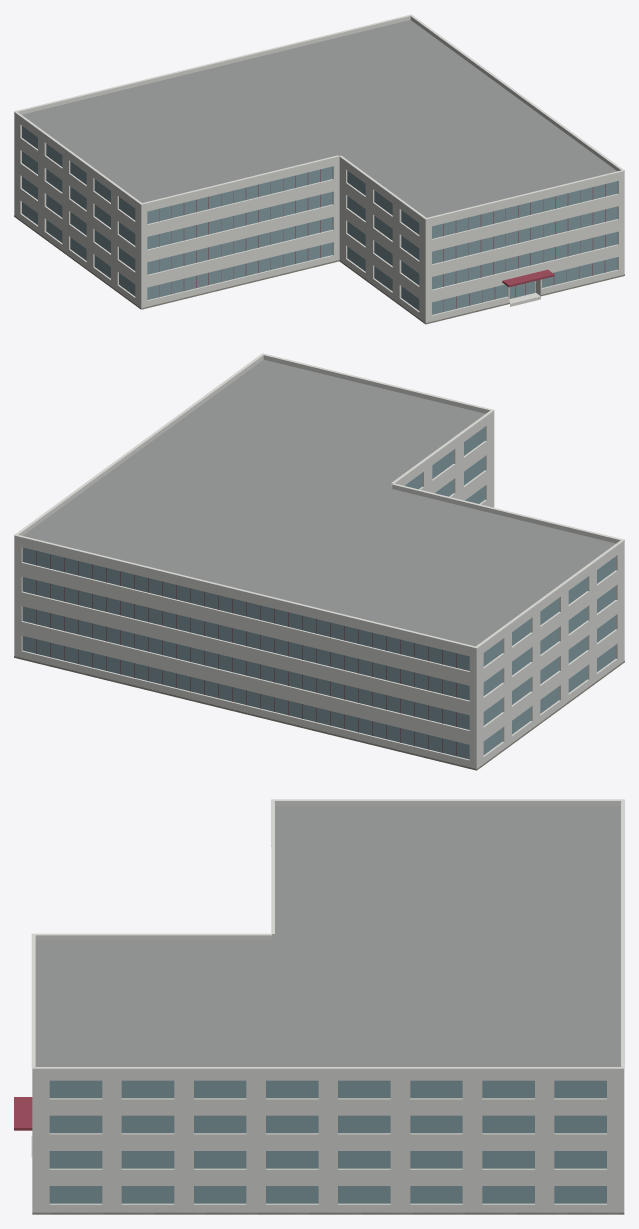
3 views of the same model, one above another, from view 1: azimuth 30°, elevation 25°; view 2: azimuth 150°, elevation 25°; view 3: azimuth 270°, elevation 25° (orthographic). The views are drawn at different scales.
Visible parts, largest first — view 1: osm631011000__roof, osm631011000__wall, osm631011000__glass, osm631011000__parapet, osm631011000__trim, osm631011000__frame, osm631011000__base; view 2: osm631011000__roof, osm631011000__wall, osm631011000__glass, osm631011000__parapet, osm631011000__trim, osm631011000__frame, osm631011000__base; view 3: osm631011000__roof, osm631011000__wall, osm631011000__glass, osm631011000__parapet, osm631011000__trim, osm631011000__base, osm631011000__canopy.
Part boxes in pixels (bbox=[...]): osm631011000__roof: bbox=[22, 20, 616, 217]; osm631011000__wall: bbox=[14, 115, 624, 323]; osm631011000__glass: bbox=[22, 126, 617, 314]; osm631011000__parapet: bbox=[14, 16, 624, 222]; osm631011000__trim: bbox=[14, 14, 624, 219]; osm631011000__frame: bbox=[159, 169, 605, 311]; osm631011000__base: bbox=[14, 215, 624, 324]; osm631011000__roof: bbox=[23, 359, 615, 646]; osm631011000__wall: bbox=[14, 415, 624, 769]; osm631011000__glass: bbox=[22, 427, 615, 759]; osm631011000__parapet: bbox=[14, 355, 624, 652]; osm631011000__trim: bbox=[14, 353, 624, 648]; osm631011000__frame: bbox=[36, 550, 456, 756]; osm631011000__base: bbox=[14, 656, 624, 770]; osm631011000__roof: bbox=[35, 806, 620, 1066]; osm631011000__wall: bbox=[32, 1074, 624, 1212]; osm631011000__glass: bbox=[49, 1080, 606, 1203]; osm631011000__parapet: bbox=[32, 801, 624, 1073]; osm631011000__trim: bbox=[31, 799, 624, 1069]; osm631011000__base: bbox=[32, 1212, 624, 1214]; osm631011000__canopy: bbox=[14, 1097, 32, 1130].
Size of the model in its own units: 59.18 by 15.35 by 56.7.
Materials: 10 (1 with a texture image).
